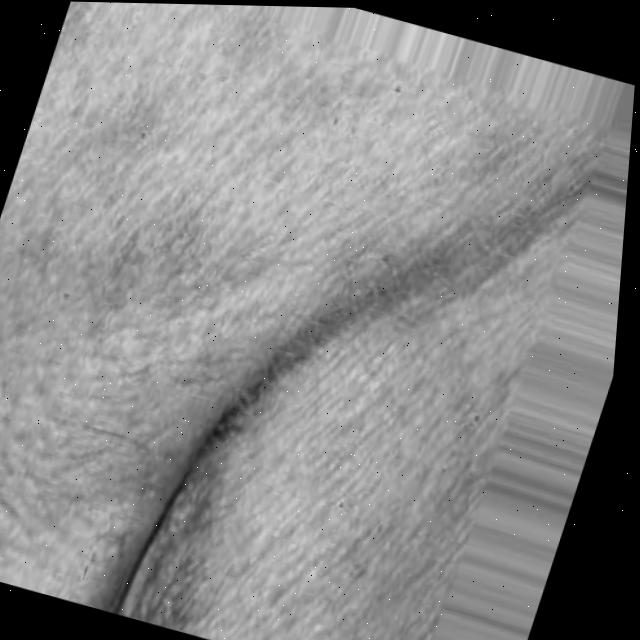Rosacea: (71, 185, 281, 358), (188, 8, 400, 142), (84, 71, 177, 171), (446, 131, 519, 196)
